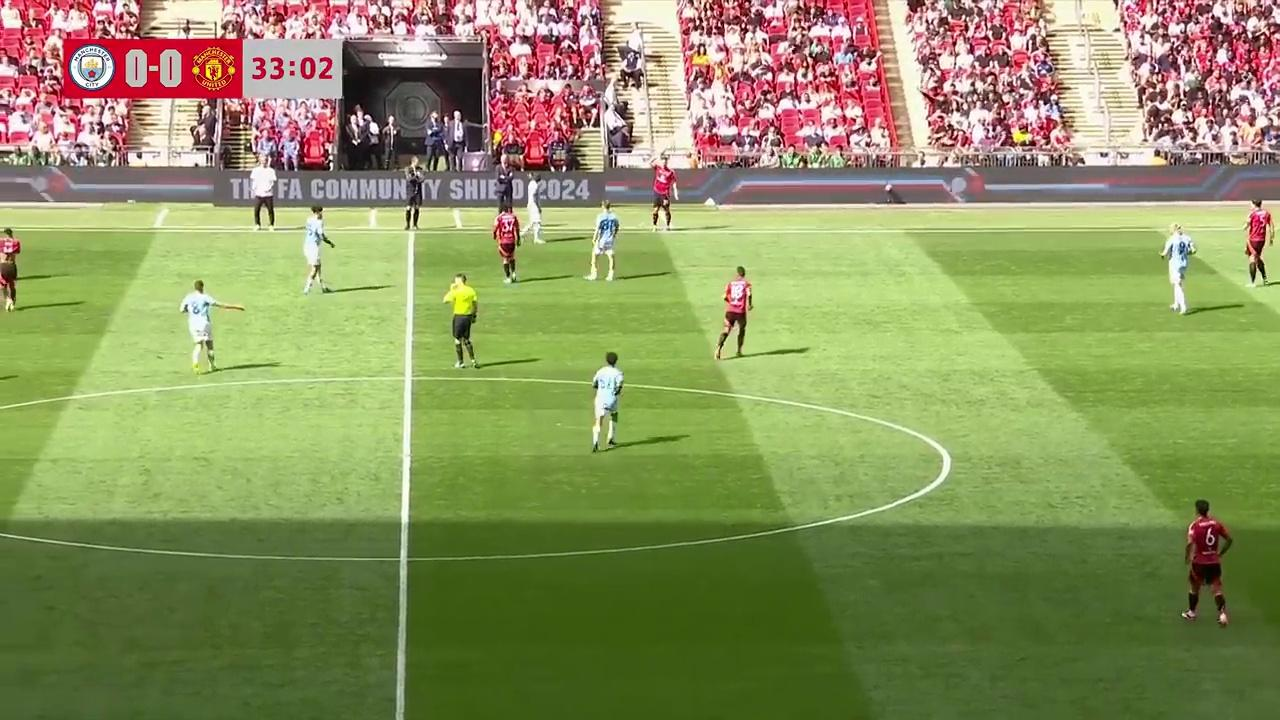player: (1181, 498, 1232, 625), (181, 279, 228, 373), (714, 266, 754, 361), (590, 351, 623, 451), (1160, 224, 1196, 314), (301, 206, 334, 294), (1245, 193, 1275, 286), (586, 201, 619, 282), (493, 207, 520, 284), (519, 170, 547, 244), (651, 167, 674, 232), (0, 234, 18, 312), (404, 167, 422, 231)
referee: (442, 273, 480, 371)
